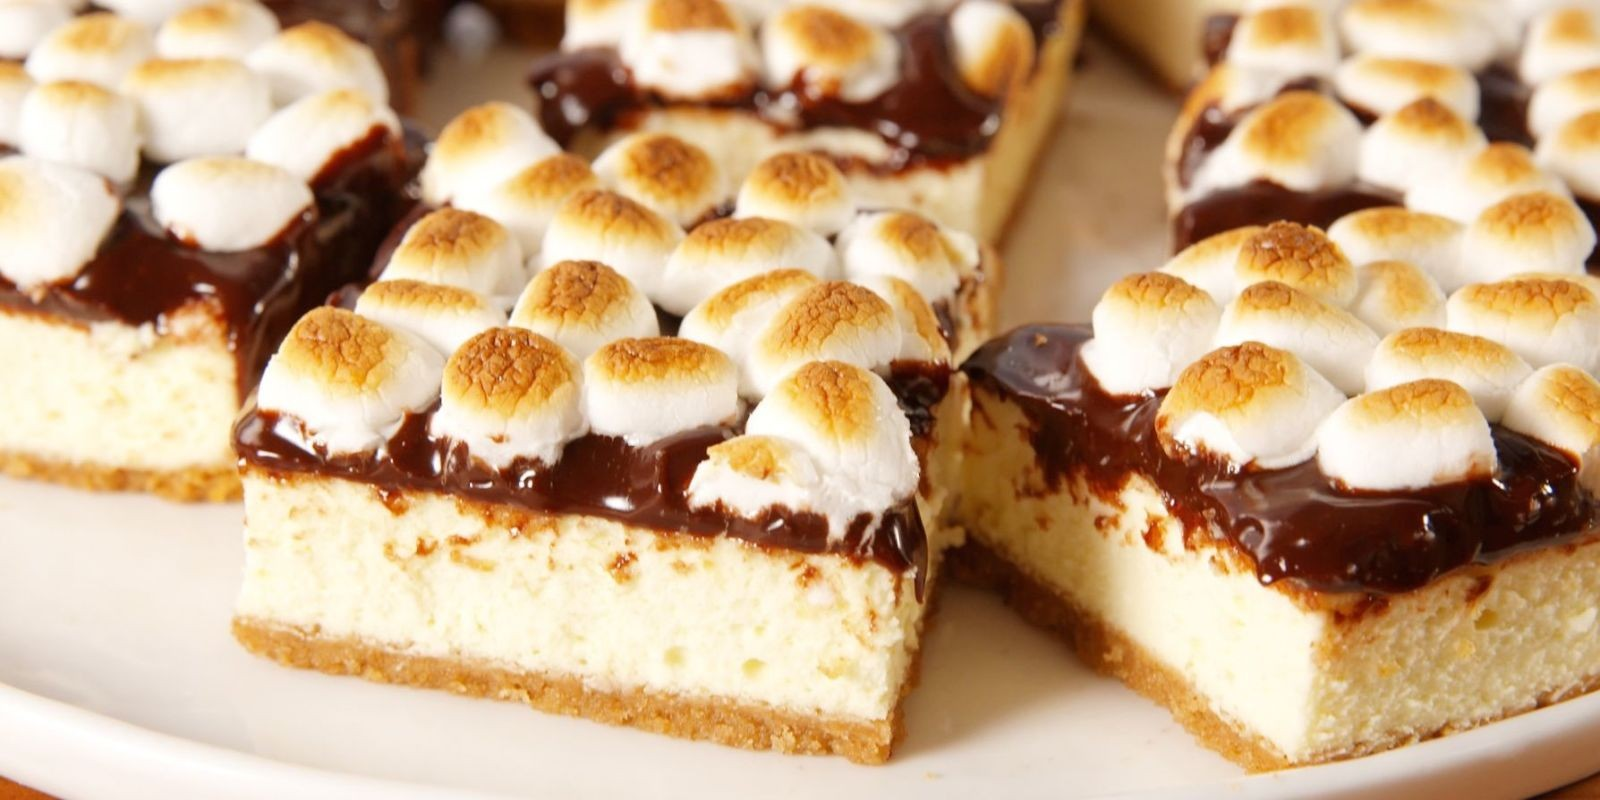cheese: (324, 197, 915, 538)
